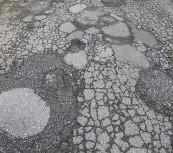alligator-crack: (1, 0, 173, 153)
pothole: (0, 86, 52, 139), (65, 39, 85, 53)
